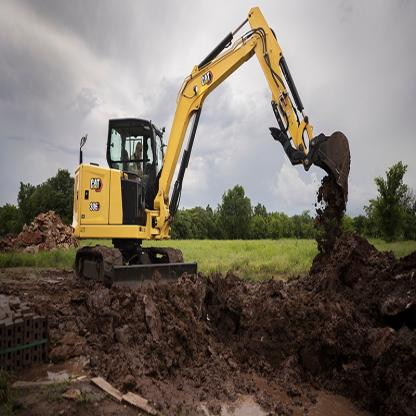excavator: (70, 5, 354, 340)
